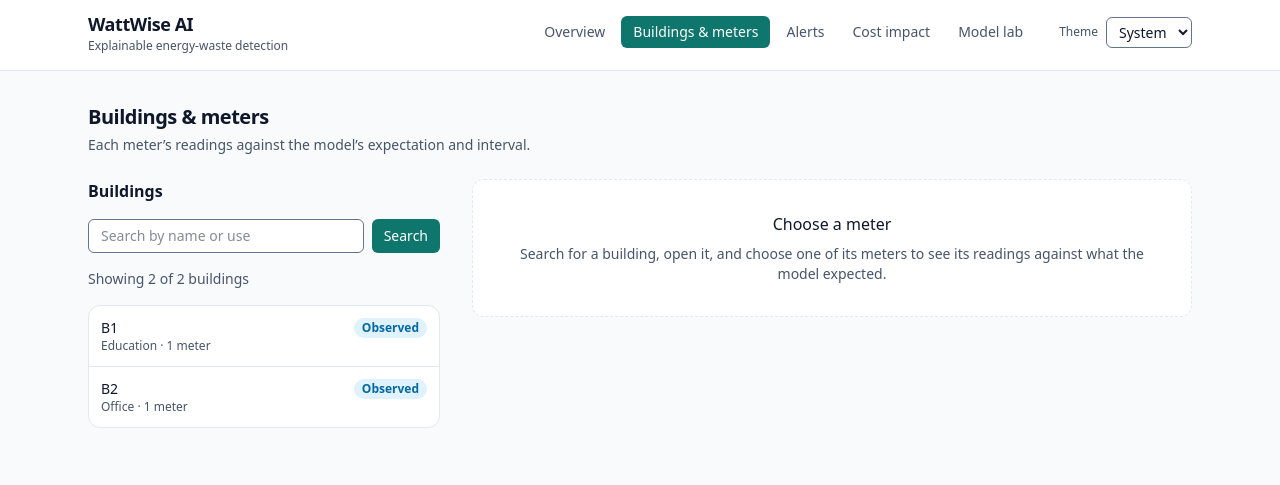
Scenario: Explorer: when there is nothing to show › says there is no expectation for a dataset without one
Click the button "B1 Education · 1 meter Observed" at (129, 346), box [101,318,427,354]
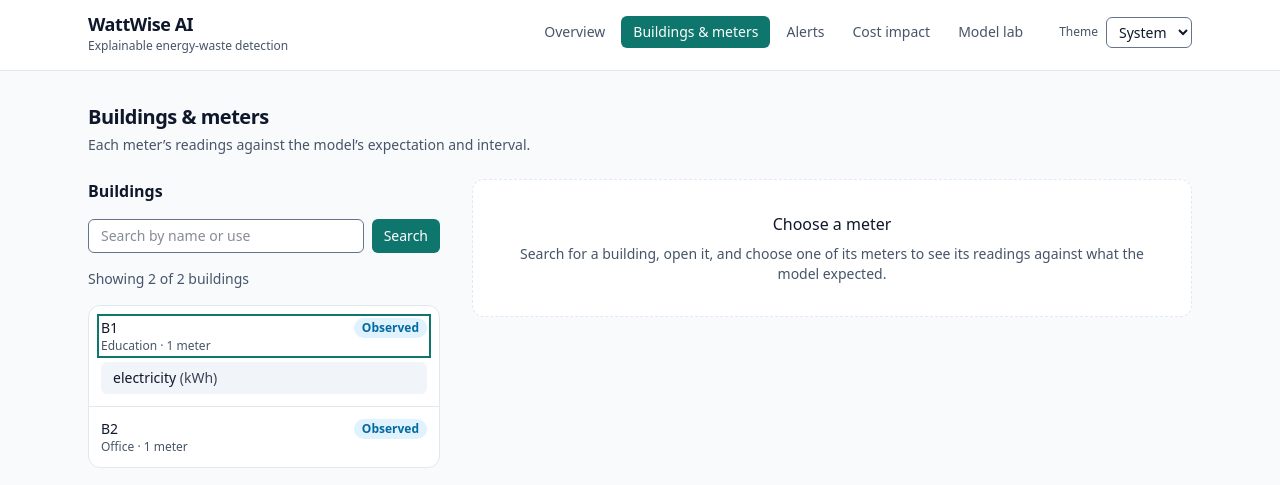
Click the button "electricity (kWh)" at (145, 378), box [101,362,427,394]
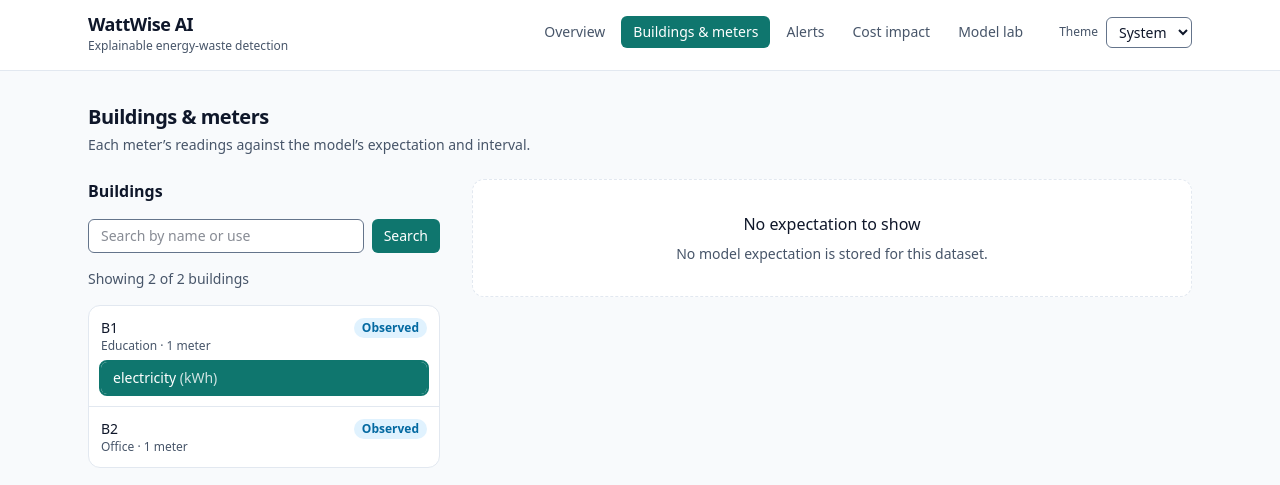
Check: the text "No expectation to show" is shown, box [743,213,921,235]
Check: the text "No model expectation is stored for this dataset." is shown, box [676,244,988,263]
